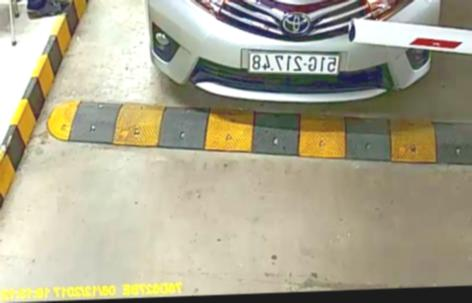License_Plate: (247, 48, 342, 78)
